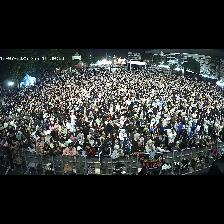person: (99, 145, 111, 169), (180, 136, 200, 148), (146, 140, 155, 160), (168, 128, 176, 150), (63, 144, 76, 157), (112, 145, 124, 159), (132, 140, 143, 155), (144, 132, 154, 148), (159, 122, 167, 141), (83, 122, 93, 137), (155, 140, 167, 152), (95, 135, 103, 152), (173, 135, 182, 150), (132, 134, 143, 146), (151, 123, 159, 139), (130, 120, 139, 134), (119, 129, 127, 144), (66, 118, 74, 133), (85, 144, 95, 156), (87, 130, 94, 147), (122, 143, 130, 157), (36, 137, 44, 151), (124, 137, 132, 151), (56, 131, 66, 142), (53, 142, 63, 153), (43, 144, 52, 156), (45, 131, 52, 145), (66, 129, 74, 141), (112, 138, 120, 150), (189, 135, 197, 147), (104, 133, 112, 145), (179, 121, 186, 134), (28, 142, 35, 155), (58, 125, 67, 135), (19, 141, 28, 151), (71, 137, 79, 148), (59, 138, 67, 149), (130, 129, 137, 141), (174, 119, 180, 133), (74, 127, 83, 136), (77, 134, 84, 145), (82, 139, 89, 150), (190, 127, 196, 139), (10, 140, 17, 150), (50, 121, 57, 131), (99, 130, 105, 141), (77, 147, 85, 155), (172, 113, 177, 125), (187, 124, 192, 136), (105, 116, 112, 124), (212, 136, 219, 144), (21, 134, 27, 143), (206, 136, 212, 145), (15, 141, 19, 153), (140, 168, 148, 174), (50, 138, 54, 148), (68, 135, 73, 143), (41, 133, 45, 142)
